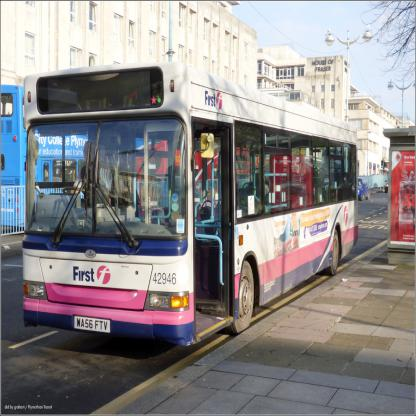Bus: (21, 61, 360, 348), (0, 86, 153, 231), (134, 138, 261, 209)
